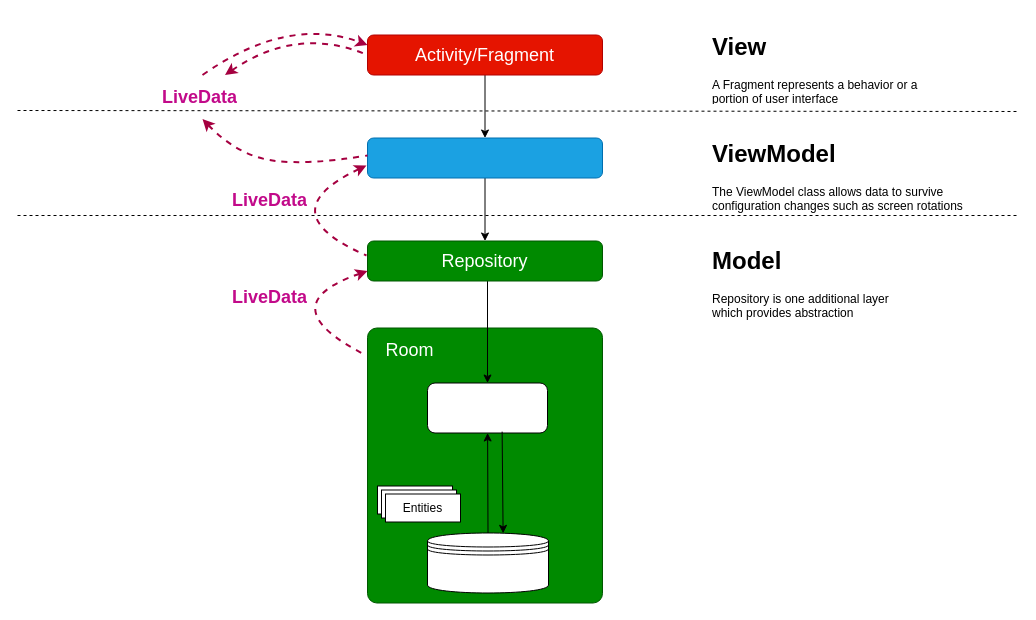
Image size: 1036x620. Some labels were removed from this diagram. Each missing label, with the box of its shape:
Data Access Object (DAO): (426, 382, 548, 433)
SQLite Database: (426, 532, 548, 593)
ViewModel: (366, 137, 602, 178)
